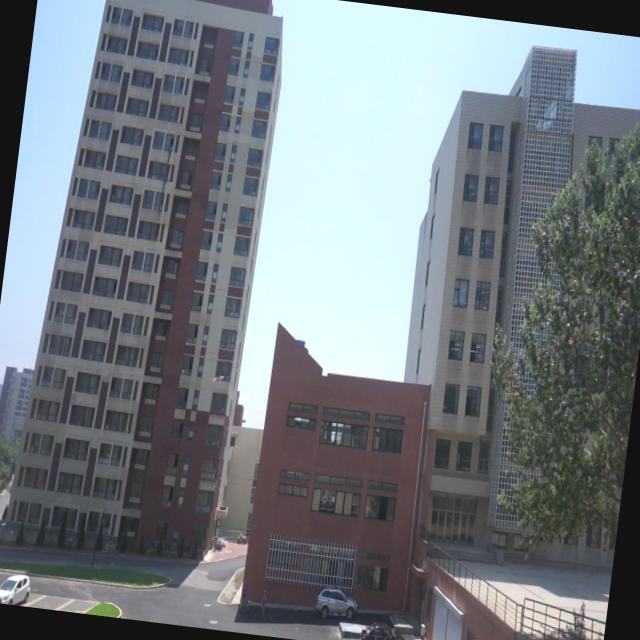drone: (210, 368, 228, 386)
